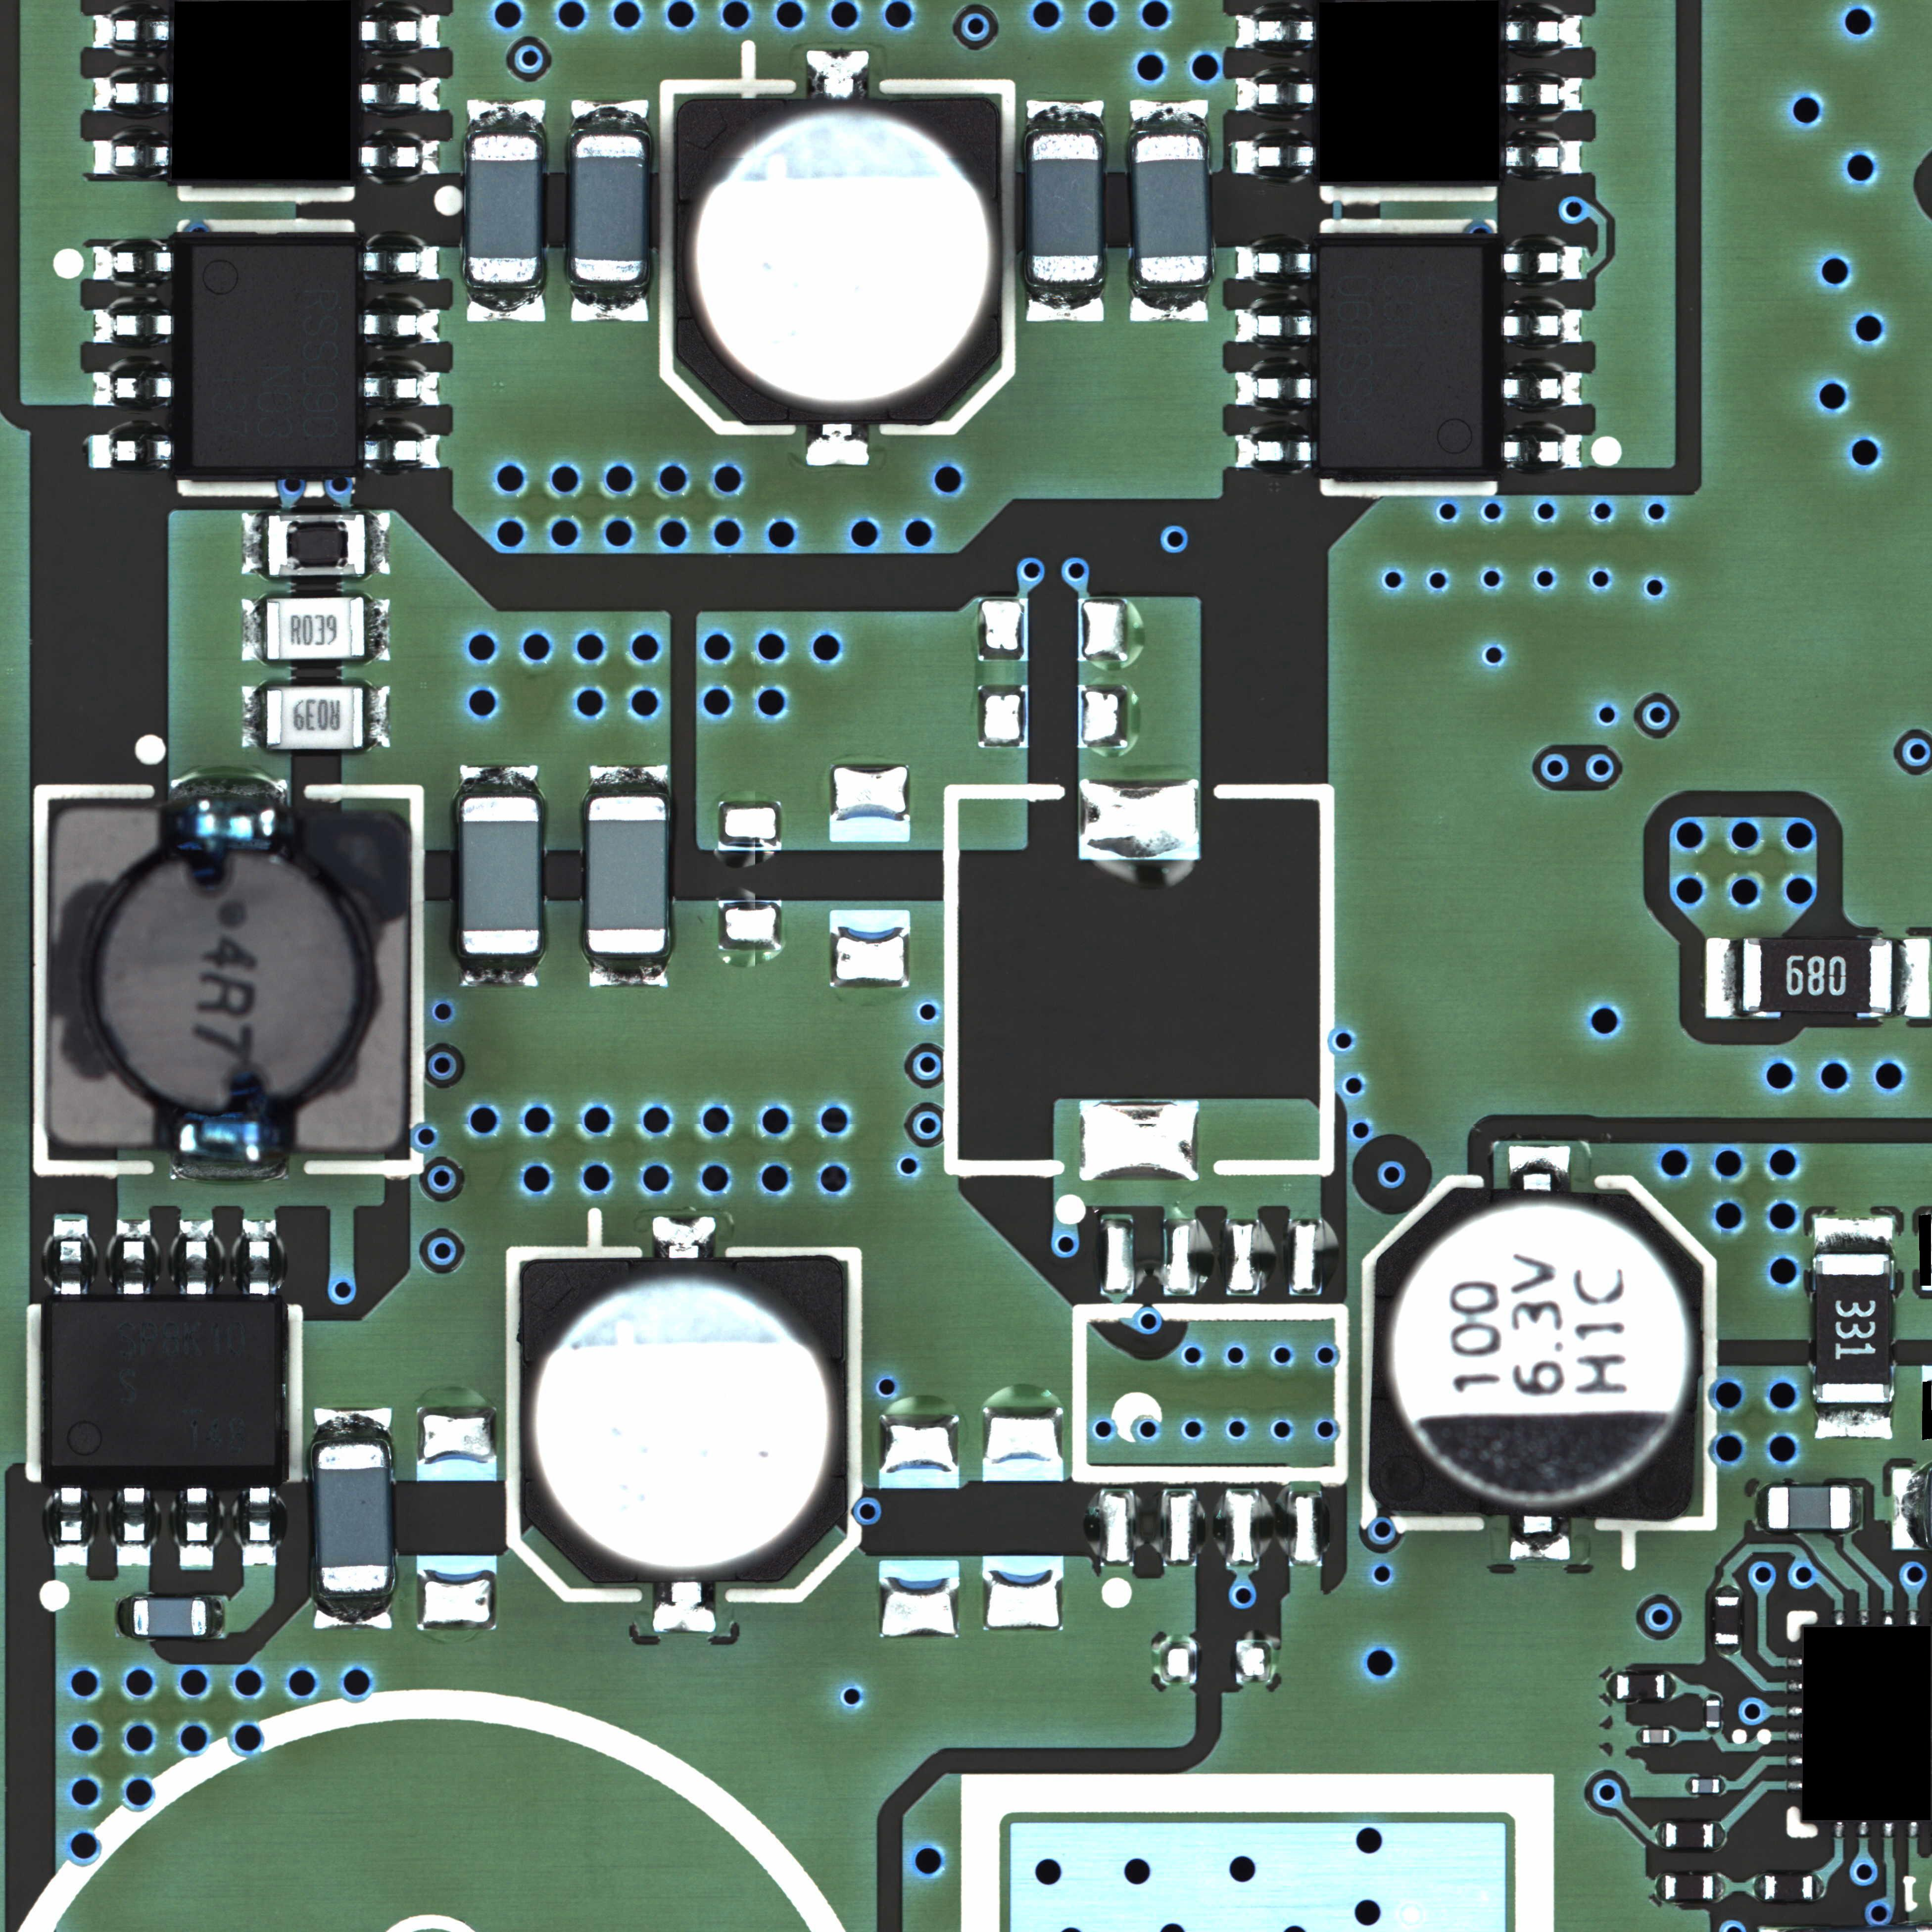Package: (50, 807, 403, 1150), (1371, 1189, 1698, 1522), (678, 99, 1001, 426), (520, 1258, 847, 1580), (51, 1300, 276, 1486), (1318, 244, 1500, 467), (175, 246, 356, 465), (462, 796, 540, 954), (587, 796, 665, 954), (1131, 136, 1208, 283), (1744, 938, 1891, 1014), (1815, 1254, 1891, 1401), (317, 1444, 389, 1591), (467, 134, 538, 283), (1030, 134, 1099, 281), (575, 136, 644, 281), (269, 513, 364, 575), (267, 686, 363, 748), (267, 598, 364, 658), (1767, 1486, 1851, 1529), (133, 1599, 205, 1637), (1617, 1674, 1665, 1698), (1764, 1875, 1812, 1900), (1667, 1822, 1713, 1847), (1716, 1596, 1739, 1644), (1665, 1875, 1713, 1898), (1706, 1700, 1720, 1727), (1642, 1729, 1668, 1743), (1691, 1780, 1718, 1792)
Solder: (170, 1150, 288, 1182), (651, 1582, 717, 1633), (170, 777, 288, 805), (570, 281, 649, 322), (1026, 281, 1104, 322), (807, 50, 869, 99), (1235, 14, 1316, 51), (88, 433, 173, 469), (1706, 938, 1743, 1017), (1813, 1217, 1893, 1254), (1893, 938, 1930, 1017), (1237, 76, 1316, 113), (313, 1592, 391, 1629), (1129, 285, 1207, 322), (1815, 1403, 1893, 1440), (357, 246, 439, 281), (92, 246, 173, 281), (92, 308, 173, 343), (1506, 140, 1582, 177), (570, 99, 649, 134), (465, 285, 545, 320), (1129, 99, 1208, 134), (1500, 310, 1583, 343), (1500, 372, 1583, 405), (1235, 433, 1318, 467), (1233, 142, 1316, 175), (467, 99, 545, 134), (313, 1407, 391, 1442), (357, 372, 439, 405), (357, 433, 439, 467), (92, 372, 173, 405), (587, 954, 669, 987), (117, 1219, 150, 1300), (242, 1219, 276, 1300), (1235, 372, 1316, 405), (359, 78, 441, 111), (94, 140, 170, 175), (55, 1488, 88, 1568), (1026, 99, 1106, 133), (1891, 1468, 1925, 1548), (92, 14, 172, 48), (1500, 248, 1583, 280), (1233, 310, 1316, 341), (117, 1488, 150, 1566), (92, 78, 170, 111), (357, 310, 439, 341), (55, 1219, 87, 1300), (180, 1219, 212, 1300), (653, 1215, 717, 1256), (1502, 435, 1583, 467), (1235, 248, 1316, 280), (359, 16, 441, 48), (1506, 78, 1582, 111), (1509, 1145, 1569, 1187), (589, 764, 669, 796), (458, 954, 538, 985), (244, 1488, 276, 1568), (180, 1488, 212, 1568), (805, 426, 869, 465), (361, 143, 439, 175), (1509, 1523, 1571, 1560), (462, 766, 538, 796), (1506, 18, 1582, 48), (364, 685, 391, 748), (241, 511, 267, 573), (364, 598, 389, 660), (241, 685, 265, 747), (366, 511, 389, 575), (242, 598, 265, 660), (205, 1598, 226, 1638), (115, 1596, 131, 1635), (1851, 1486, 1863, 1530), (1755, 1486, 1766, 1530), (1713, 1875, 1725, 1900), (1667, 1674, 1677, 1700), (1714, 1822, 1725, 1849), (1654, 1821, 1665, 1847), (1654, 1874, 1665, 1900), (1813, 1874, 1824, 1900), (1753, 1874, 1764, 1900), (1829, 1610, 1845, 1626), (1905, 1821, 1920, 1838), (1716, 1585, 1739, 1596), (1716, 1645, 1739, 1656), (1606, 1672, 1615, 1698), (1856, 1610, 1870, 1626), (1787, 1753, 1803, 1767), (1881, 1822, 1895, 1838), (1831, 1822, 1847, 1836), (1905, 1610, 1920, 1624), (1881, 1610, 1895, 1624), (1787, 1679, 1801, 1693), (1787, 1704, 1801, 1718), (1787, 1729, 1801, 1743), (1787, 1778, 1801, 1792), (1856, 1822, 1870, 1836), (1787, 1656, 1801, 1668), (1704, 1691, 1720, 1698), (1670, 1729, 1677, 1744), (1635, 1727, 1642, 1743), (1684, 1778, 1691, 1794), (1720, 1778, 1725, 1794), (1706, 1729, 1720, 1734)
